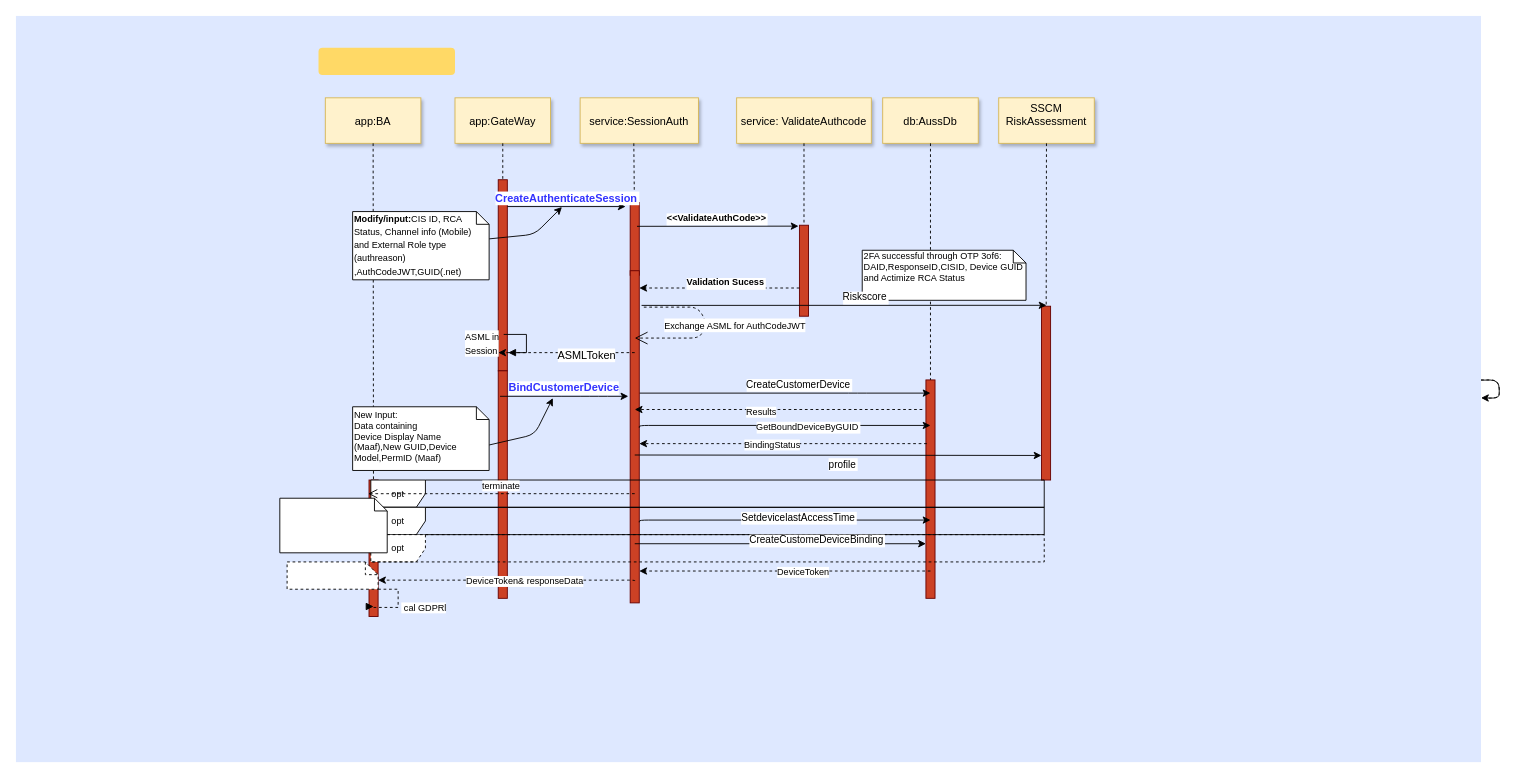
This 1522x777 diagram has some shape labels left out. The centre of each missing label's shape, as x and y in pixels:
"-If binding exists &invalid -customer previously exists -new binding" belongs at point (333, 525).
"SCA Suceessful" belongs at point (332, 575).
"SessionAuthService" belongs at point (386, 61).
